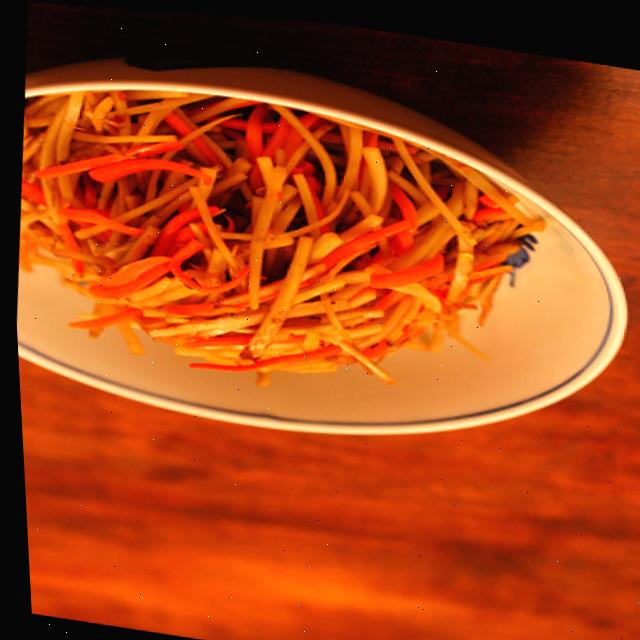蔬菜料理: (1, 22, 623, 456)
